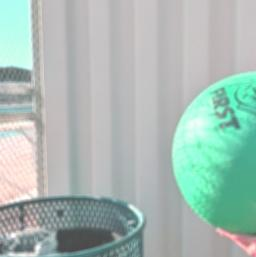algae: (169, 66, 256, 235)
